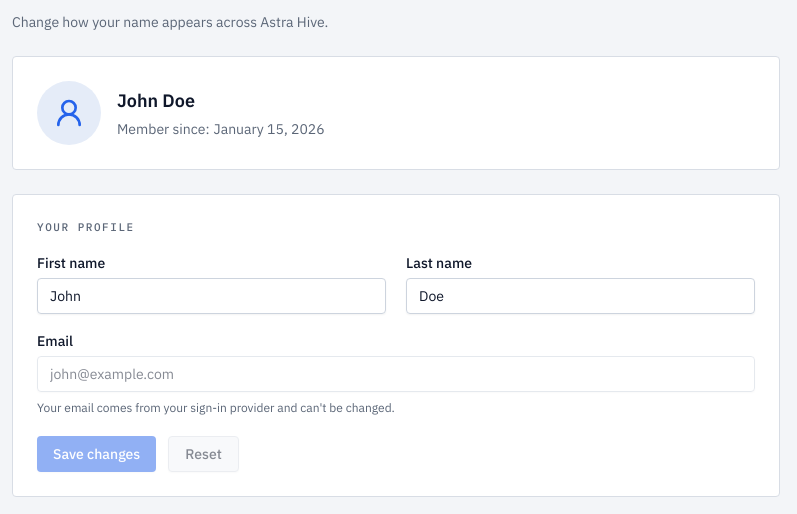
ProfileView › shows an error when saving fails
Expected: the field labelled "First name" is shown, [37,278,386,314]
Type "son" into the field labelled "Last name" at (580, 296), box [406,278,755,314]
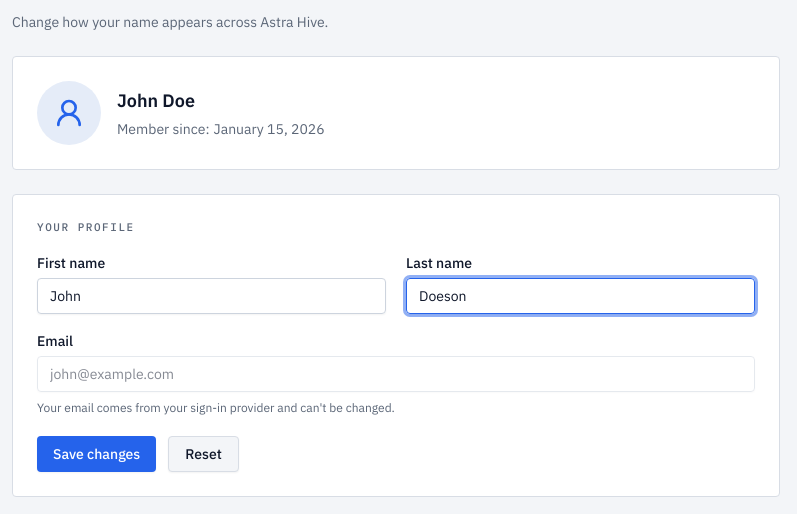
Click the button "Save changes" at (97, 454), box [37,436,156,472]
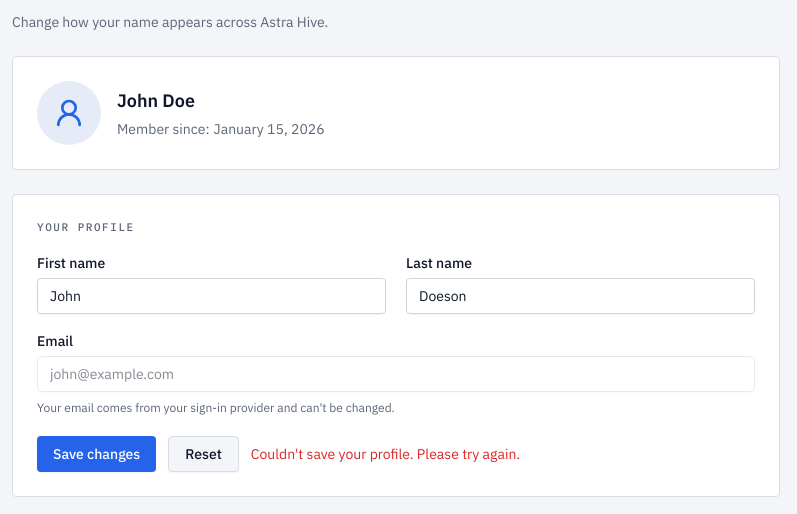
Now the text "Couldn't save your profile. Please try again." is shown, box [251,444,520,464]
